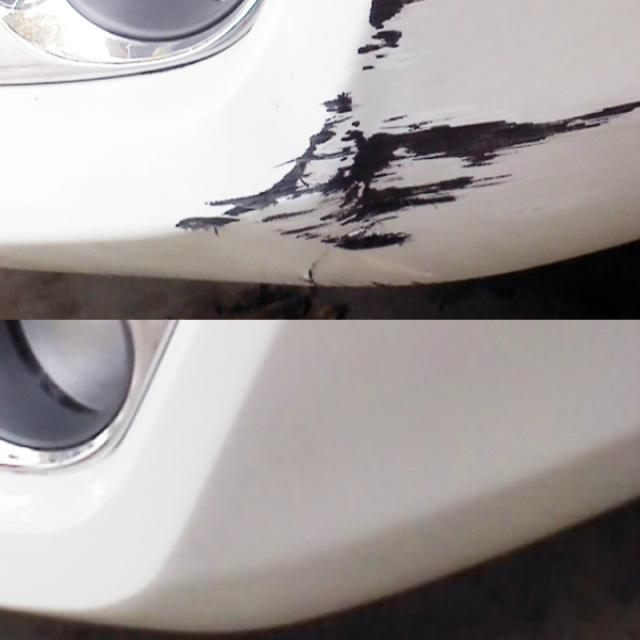front-bumper-scratch: (158, 0, 640, 265)
